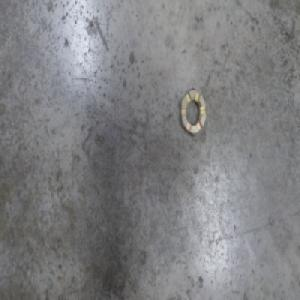Nut: (179, 85, 206, 138)
